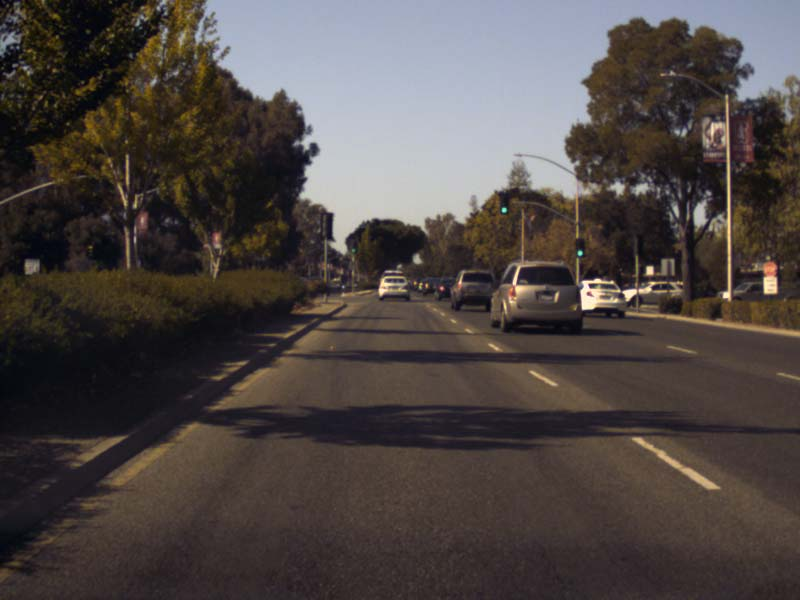Green: (499, 190, 509, 215), (574, 238, 584, 257), (352, 242, 357, 252)
